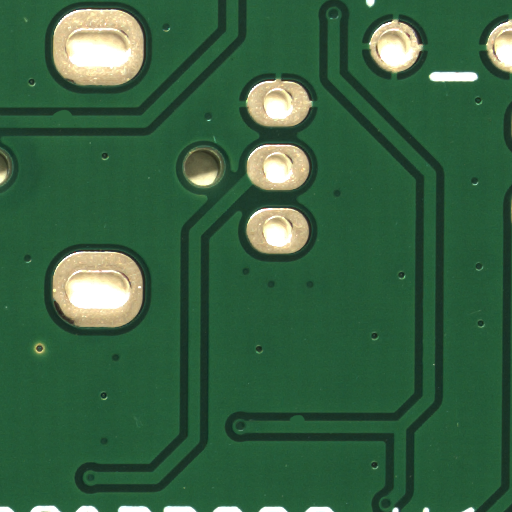Spur: (61, 113, 82, 120), (296, 416, 313, 424)
